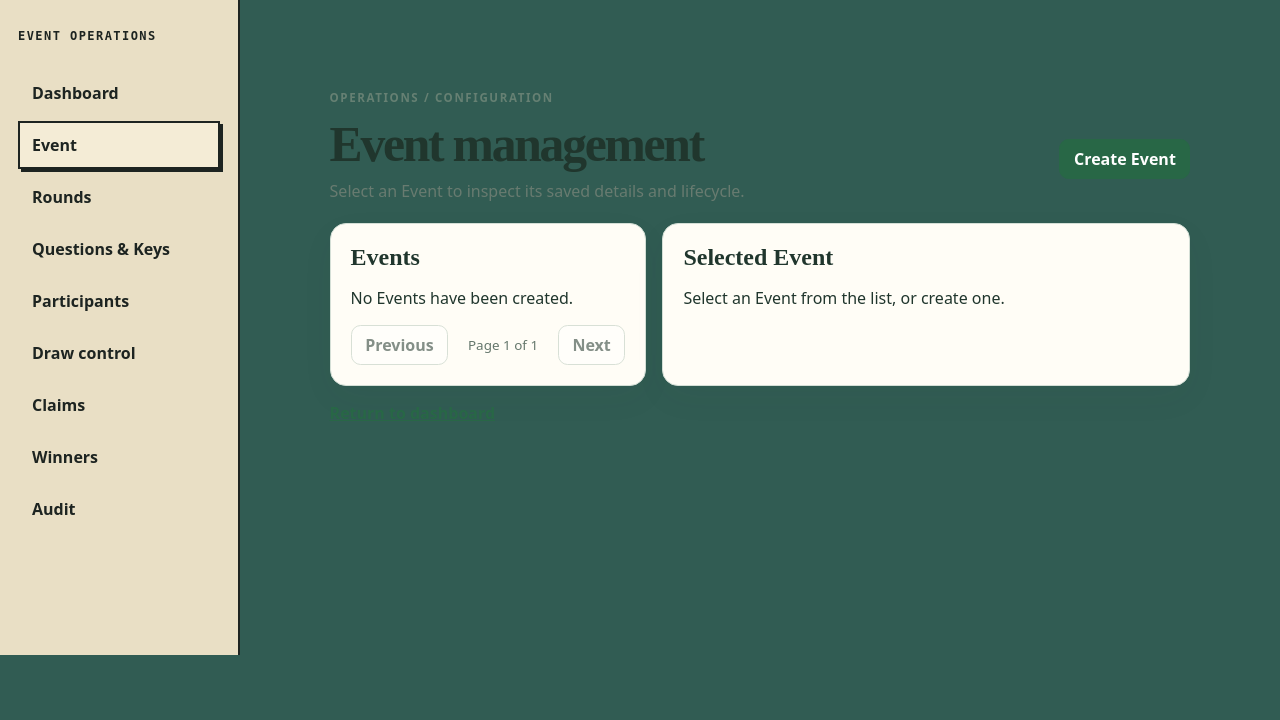
Test: Admin Event management › creates a server-owned Event, selects its persisted record, and sends no invented status
Expected: the text "No Events have been created." is shown, [351,287,573,309]
Click the button "Create Event" at (1125, 159), box [1059,139,1190,179]
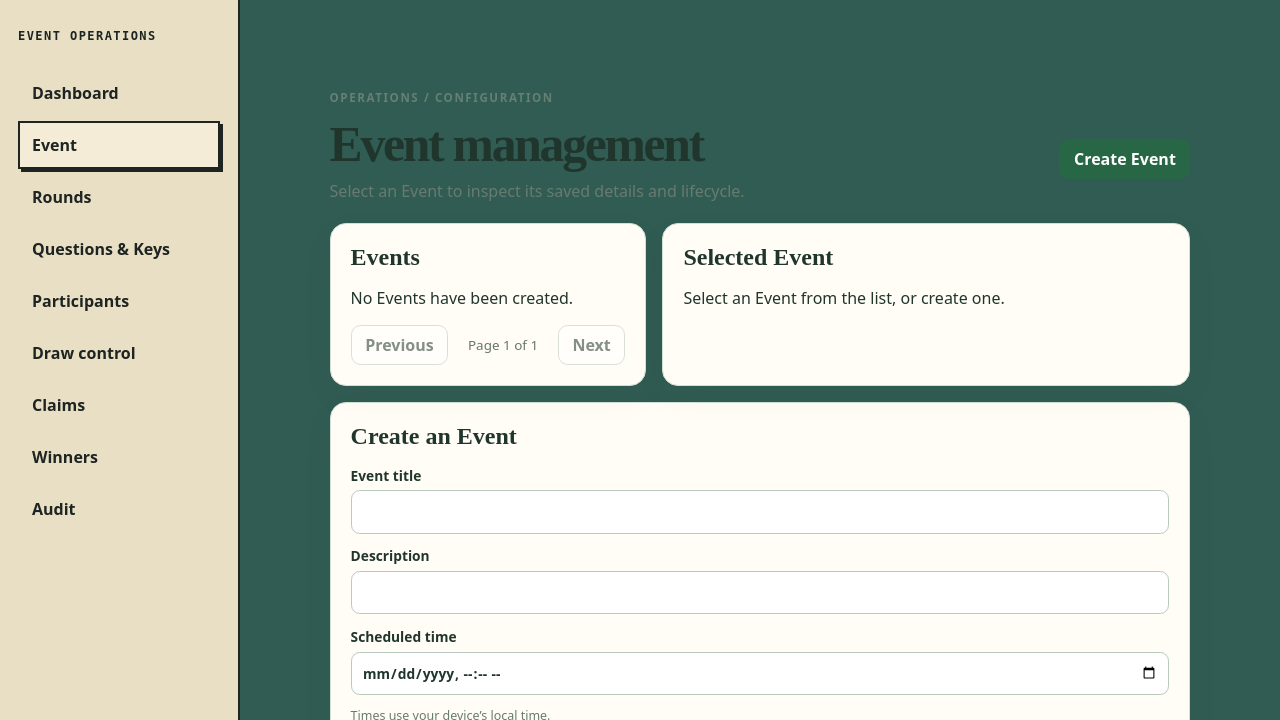
Type "New Event" into the field labelled "Event title" at (760, 512), box [351,490,1169,534]
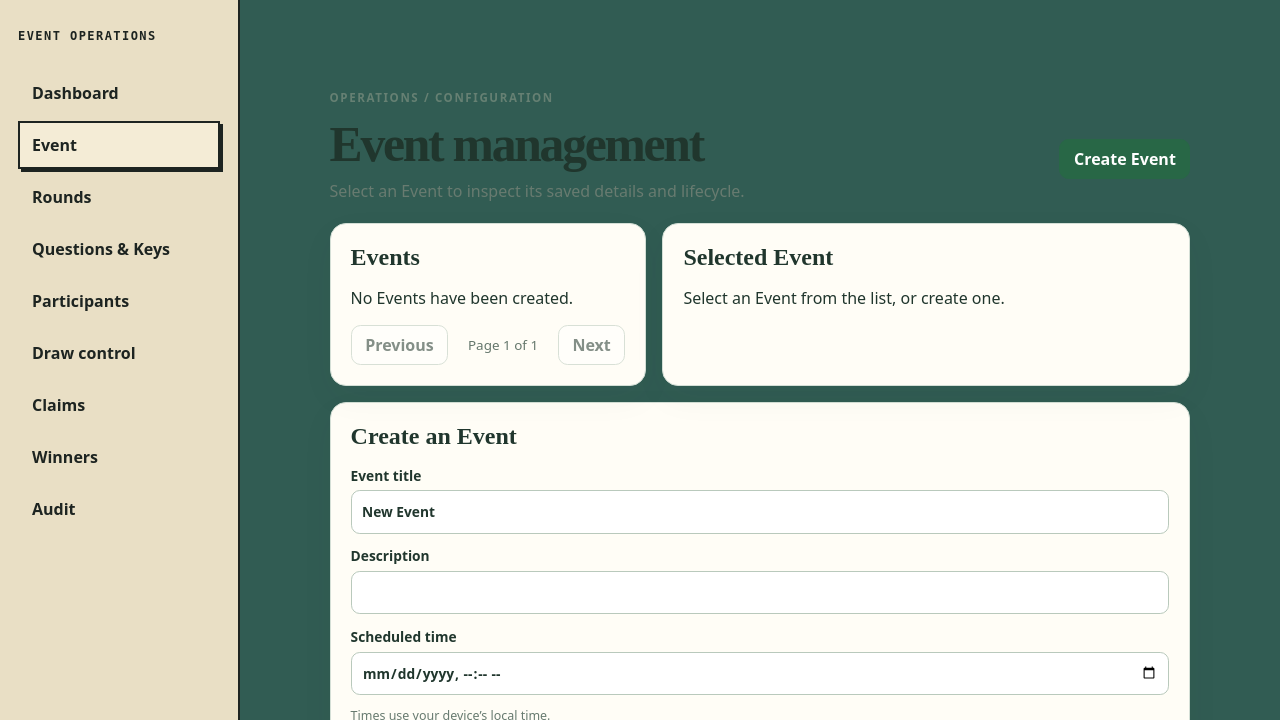
Type "A description" into the field labelled "Description" at (760, 592), box [351,571,1169,614]
(page scrolled)
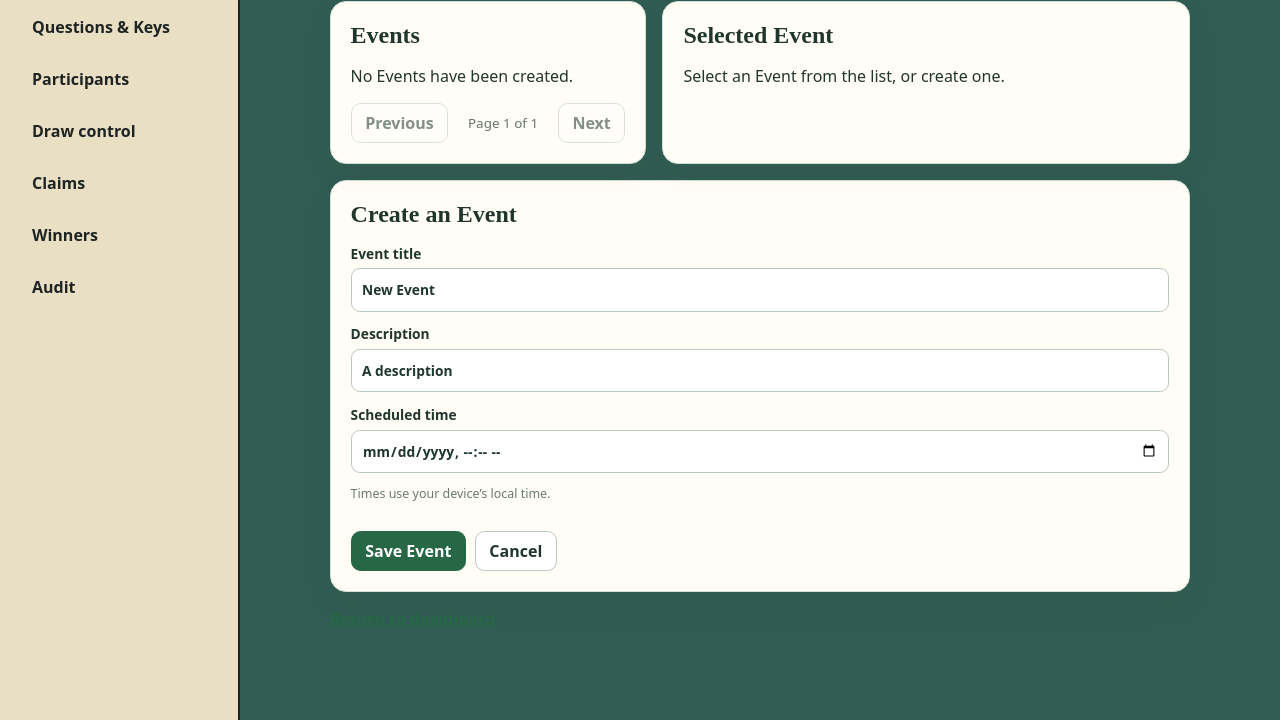
Click the button "Save Event" at (408, 551), box [351,531,466,571]
(page scrolled)
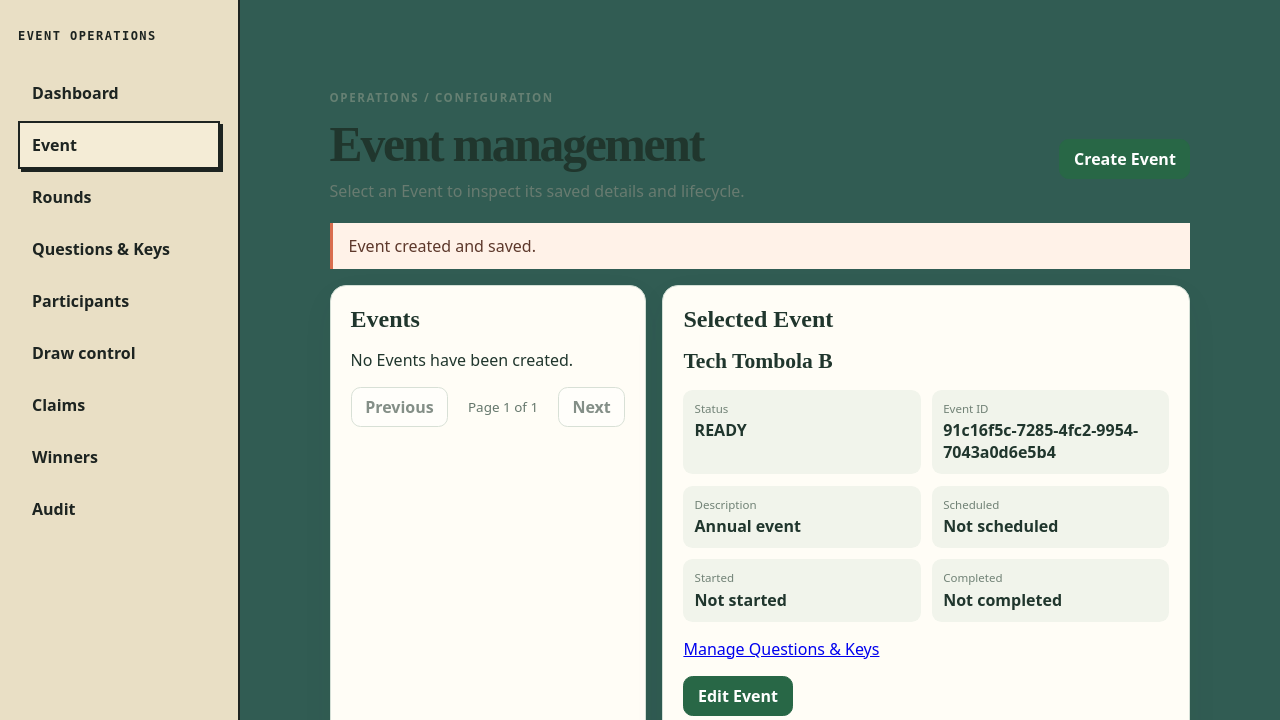
Expected: the text "Event created and saved." is shown, [330,223,1190,269]
Expected: the text "DRAFT" is shown, [695,419,747,441]
